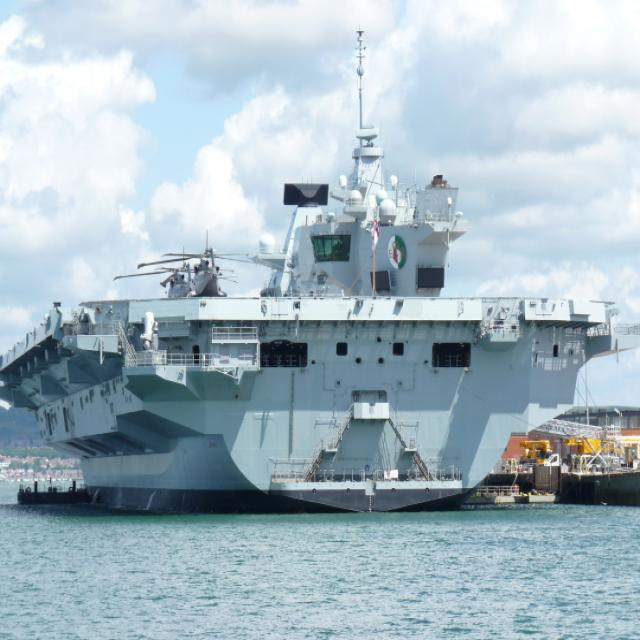Portanaves: (1, 19, 614, 522)
